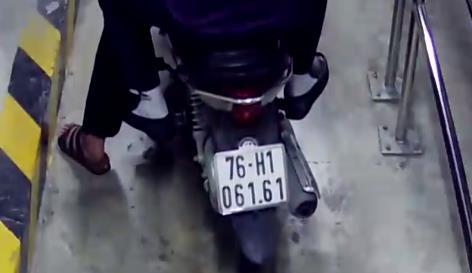lisence: (213, 143, 290, 215)
